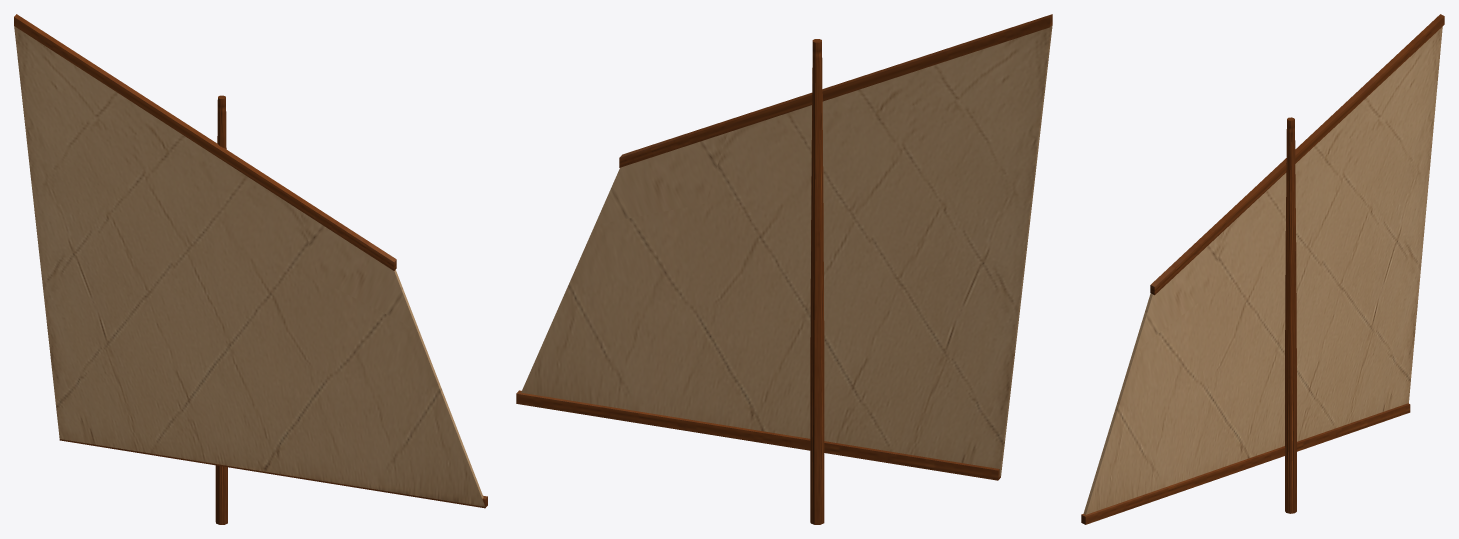
The model's file is ship_sail.dae.
3 views of the same model, side by side, from view 1: azimuth 30°, elevation 25°; view 2: azimuth 210°, elevation 25°; view 3: azimuth 270°, elevation 25° (orthographic). The views are drawn at different scales.
Parts seen in each view (by area): view 1: ship_sail; view 2: ship_sail; view 3: ship_sail.
Part boxes in pixels (bbox=[...]): ship_sail: bbox=[14, 14, 487, 524]; ship_sail: bbox=[516, 14, 1052, 524]; ship_sail: bbox=[1081, 14, 1444, 524].
Size of the model in its own units: 11.9 by 14.43 by 19.27.
